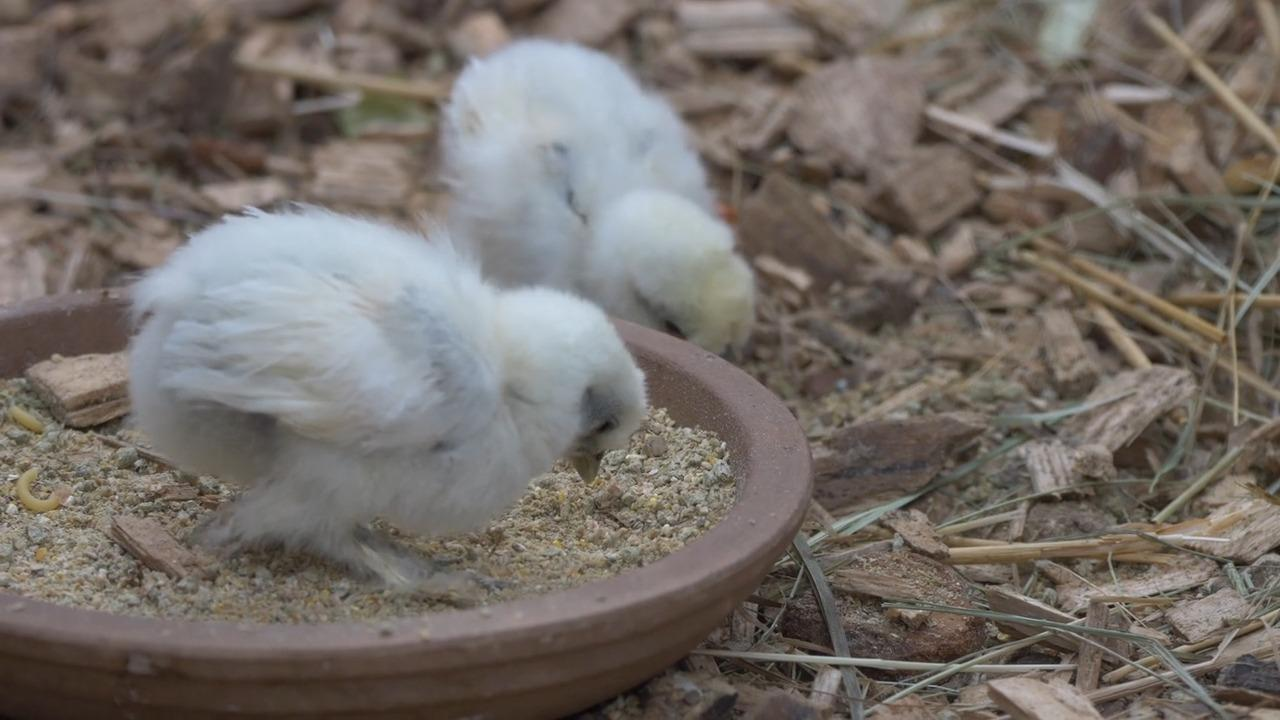Normal: (129, 203, 650, 581)
